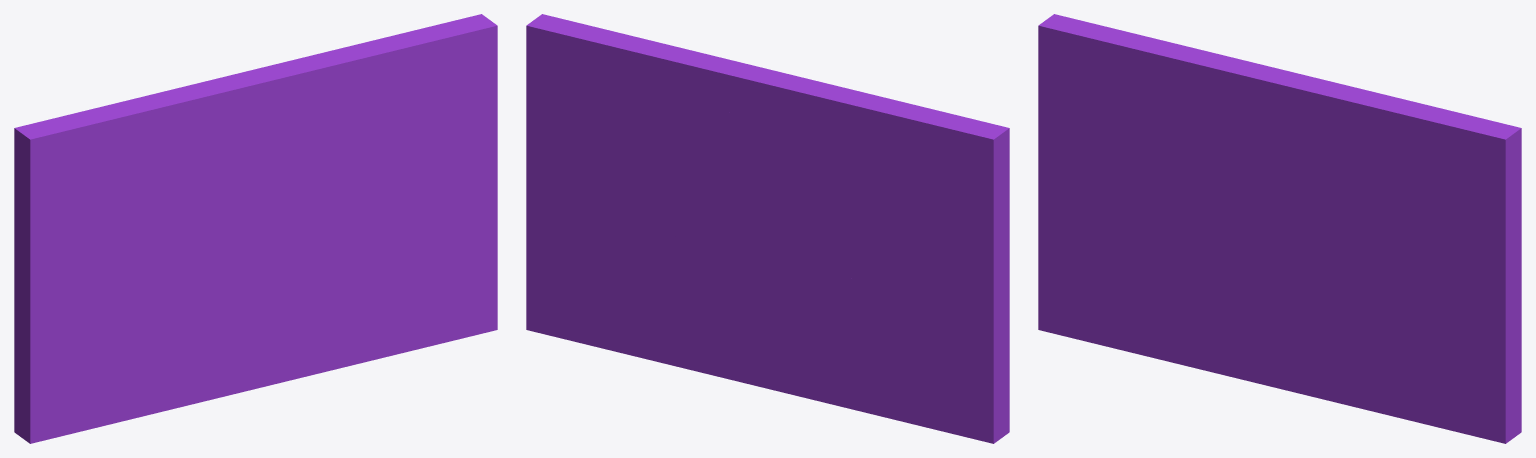
File: Barrier_72_chunks.fbx
3 renders of one model, left to right at view 1: azimuth 30°, elevation 25°; view 2: azimuth 150°, elevation 25°; view 3: azimuth 330°, elevation 25°, orthographic.
Visible parts, largest first — view 1: Barrier_72_3, Barrier_72_0, Barrier_72_2, Barrier_72_1; view 2: Barrier_72_0, Barrier_72_3, Barrier_72_2, Barrier_72_1; view 3: Barrier_72_3, Barrier_72_0, Barrier_72_2, Barrier_72_1.
Boxes of the visible parts, left/top/right/bottom form: Barrier_72_3: left=258, top=14, right=497, bottom=312; Barrier_72_0: left=14, top=62, right=286, bottom=318; Barrier_72_2: left=14, top=227, right=306, bottom=443; Barrier_72_1: left=292, top=261, right=497, bottom=376; Barrier_72_0: left=722, top=65, right=1009, bottom=329; Barrier_72_3: left=526, top=14, right=752, bottom=273; Barrier_72_2: left=765, top=253, right=1009, bottom=443; Barrier_72_1: left=526, top=218, right=782, bottom=387; Barrier_72_3: left=1266, top=80, right=1521, bottom=426; Barrier_72_0: left=1038, top=14, right=1324, bottom=223; Barrier_72_2: left=1038, top=196, right=1314, bottom=397; Barrier_72_1: left=1300, top=275, right=1521, bottom=443.
Size of the model in its own units: 462 by 288 by 27.2.
